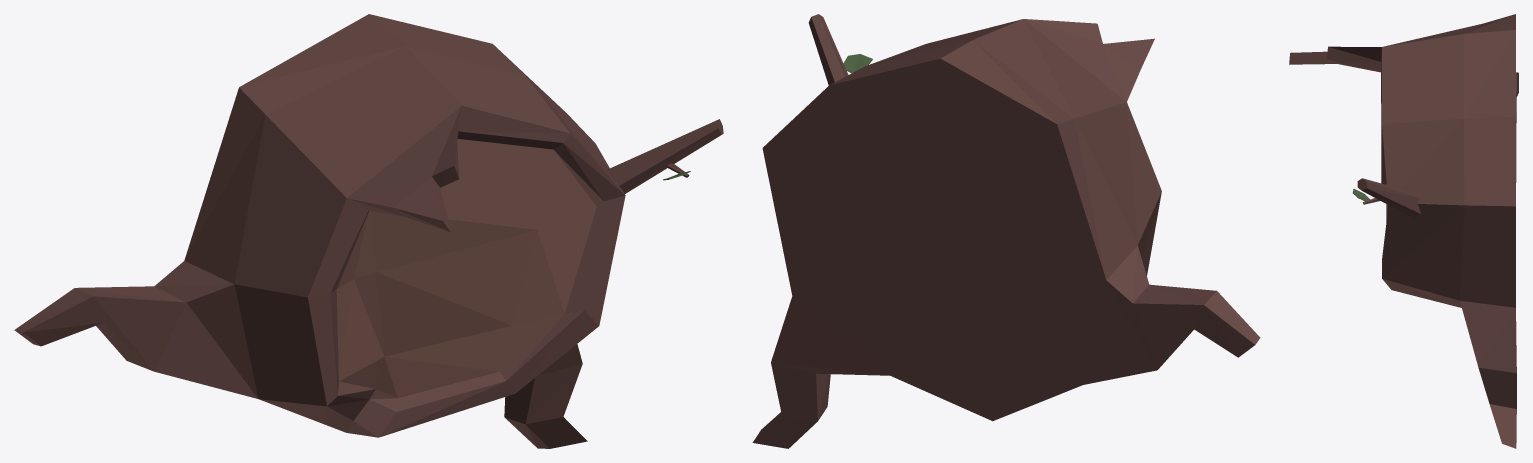
File: tree-stump.obj
The picture shows the model from 3 angles, left to right: view 1: azimuth 30°, elevation 25°; view 2: azimuth 150°, elevation 25°; view 3: azimuth 270°, elevation 25°; orthographic projection. The views are drawn at different scales.
Parts seen in each view (by area): view 1: tree-stump; view 2: tree-stump; view 3: tree-stump.
Boxes of the visible parts, bbox=[...] form: tree-stump: bbox=[14, 14, 723, 448]; tree-stump: bbox=[752, 14, 1260, 448]; tree-stump: bbox=[1289, 14, 1518, 448].
Bounding box in the file's own units: 39.37 × 29.87 × 18.
